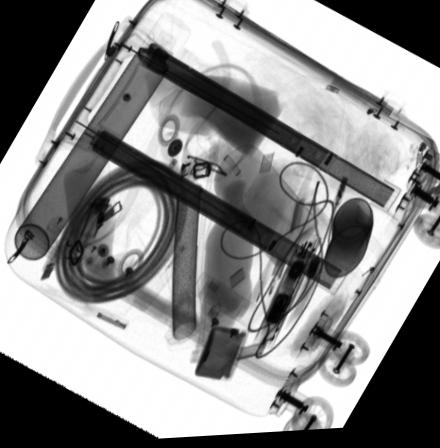Sprayer: (13, 14, 189, 261)
